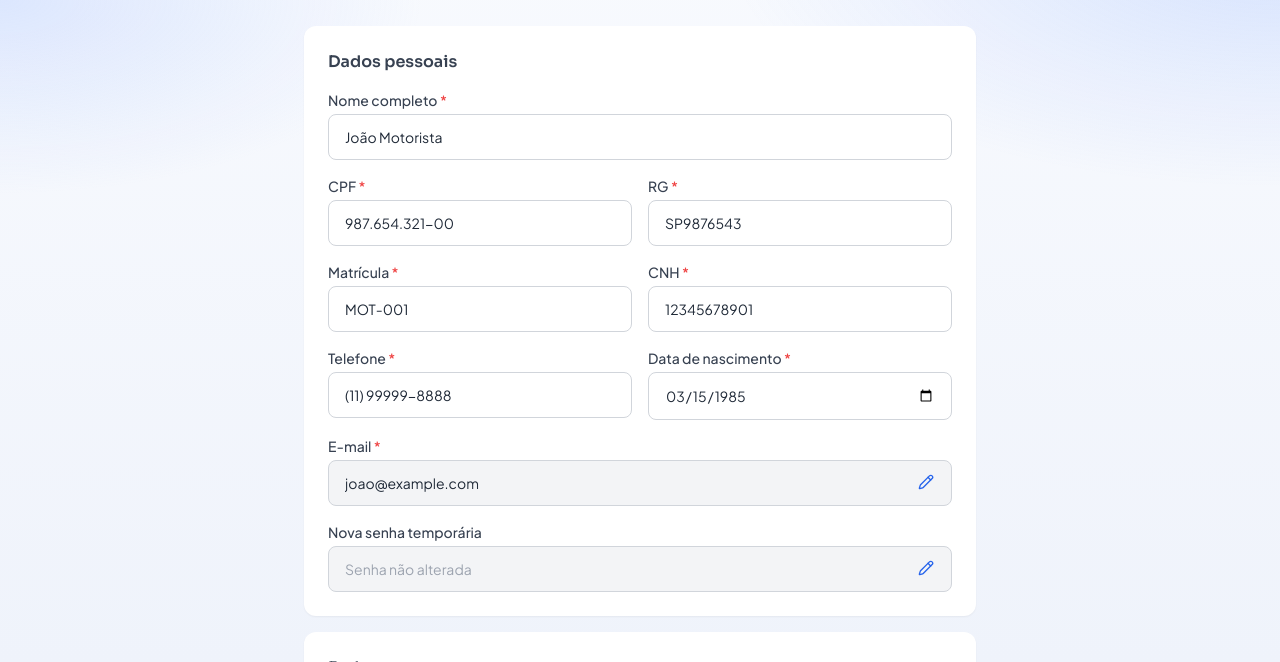
it: DriverEditPage › shows submit error on API failure without navigating away
Replace the text in the field labelled "Nome completo" with "João Motorista Silva" at (640, 137), box top-left (328, 114), bottom-right (952, 160)
(page scrolled)
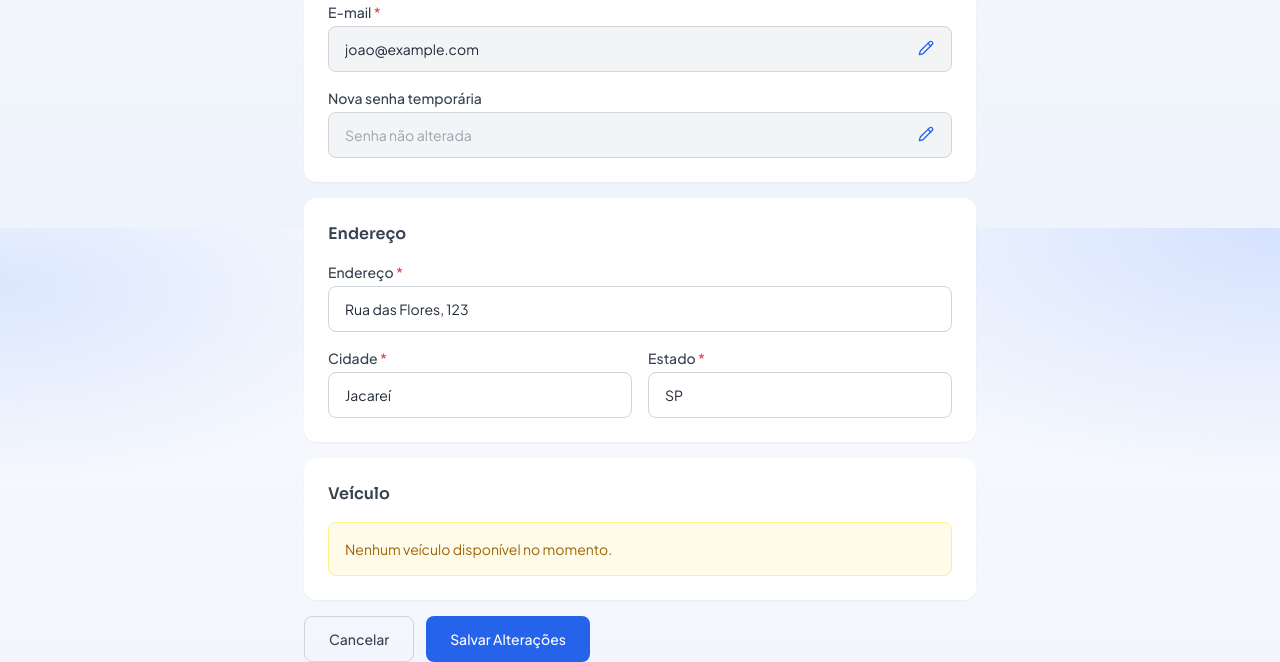
Click the button "Salvar Alterações".
click(508, 639)  # box top-left (426, 616), bottom-right (590, 661)
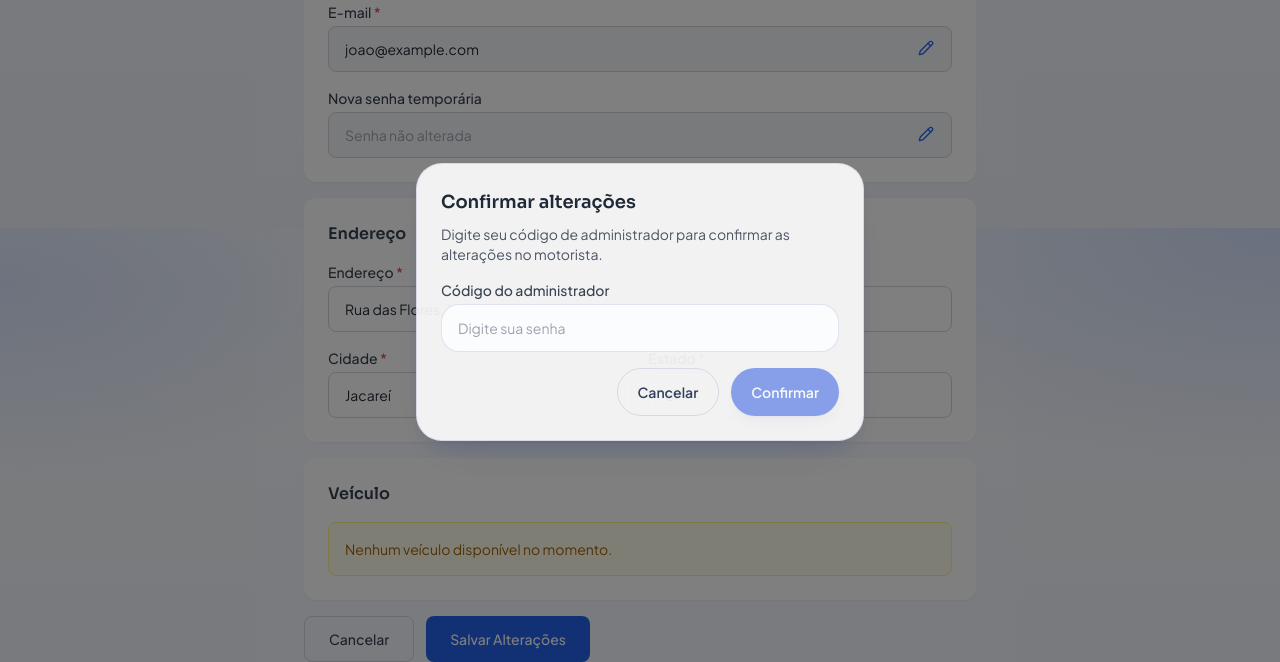
Type "admin-pass" into the password field labelled "Código do administrador".
click(640, 328); type("admin-pass")  # box top-left (441, 304), bottom-right (839, 352)
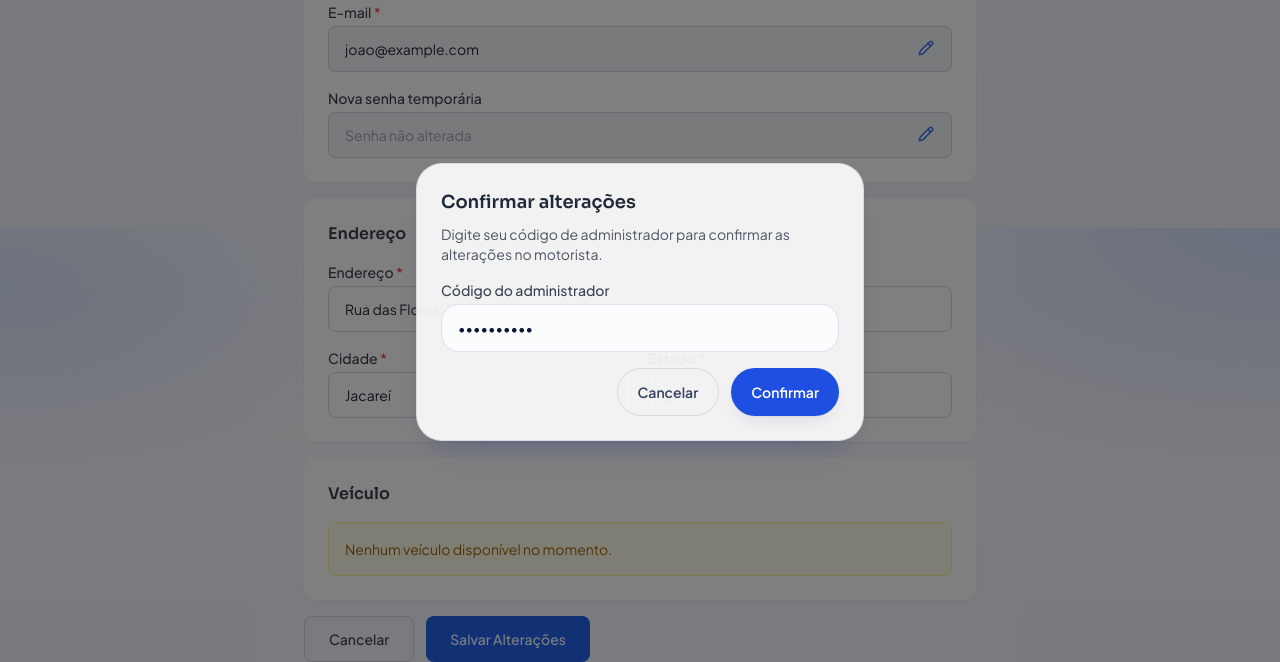
Click the button "Confirmar".
click(785, 392)  # box top-left (731, 368), bottom-right (839, 416)
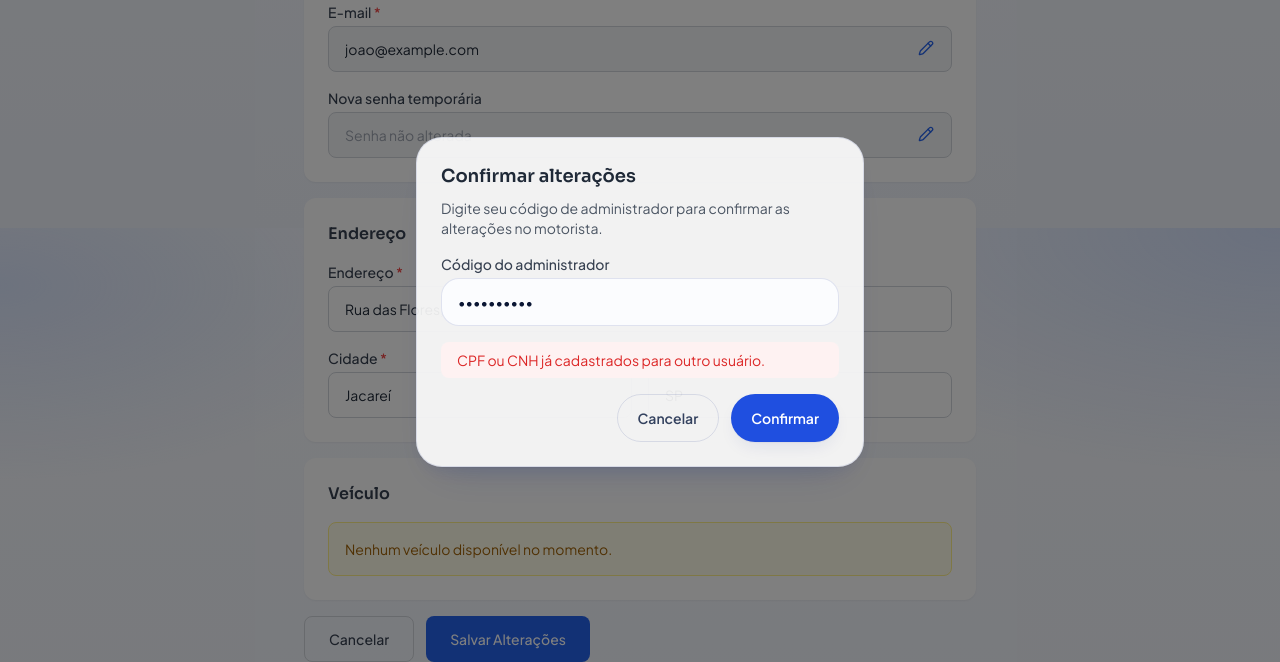
Expected: the text "CPF ou CNH já cadastrados para outro usuário." is shown, top-left (441, 342), bottom-right (839, 378)
